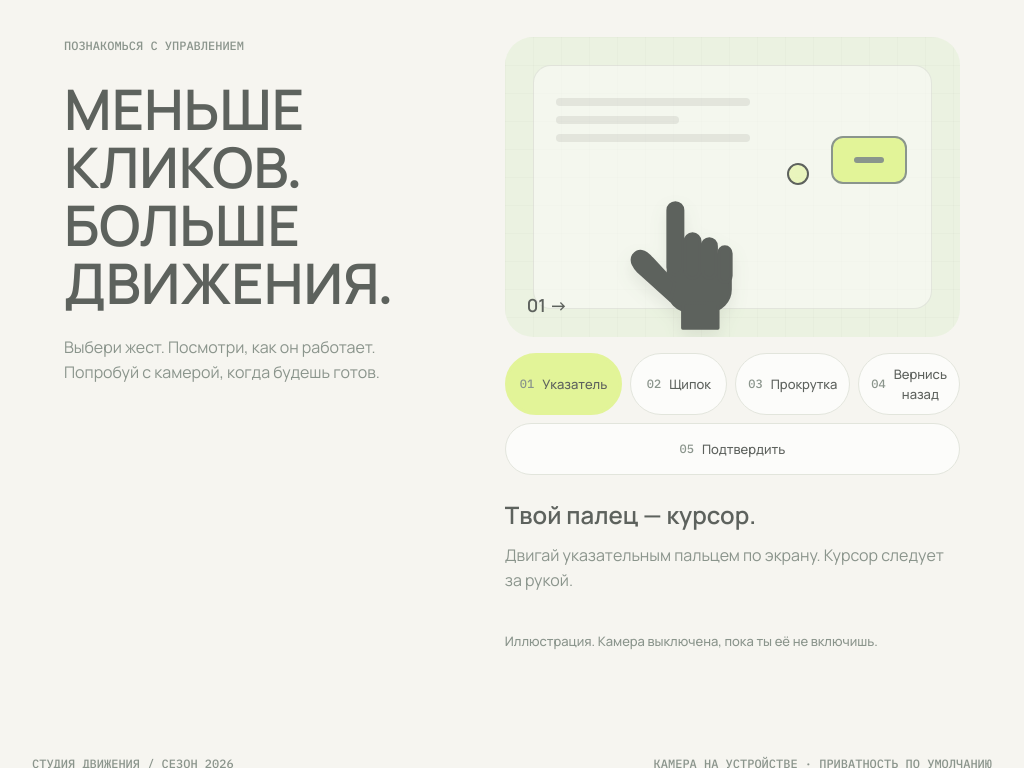
opens the Figma landing page before onboarding and camera preparation
(page scrolled)
Click the button "03 Прокрутка": [793, 384] box [735,353,850,415]
(page scrolled)
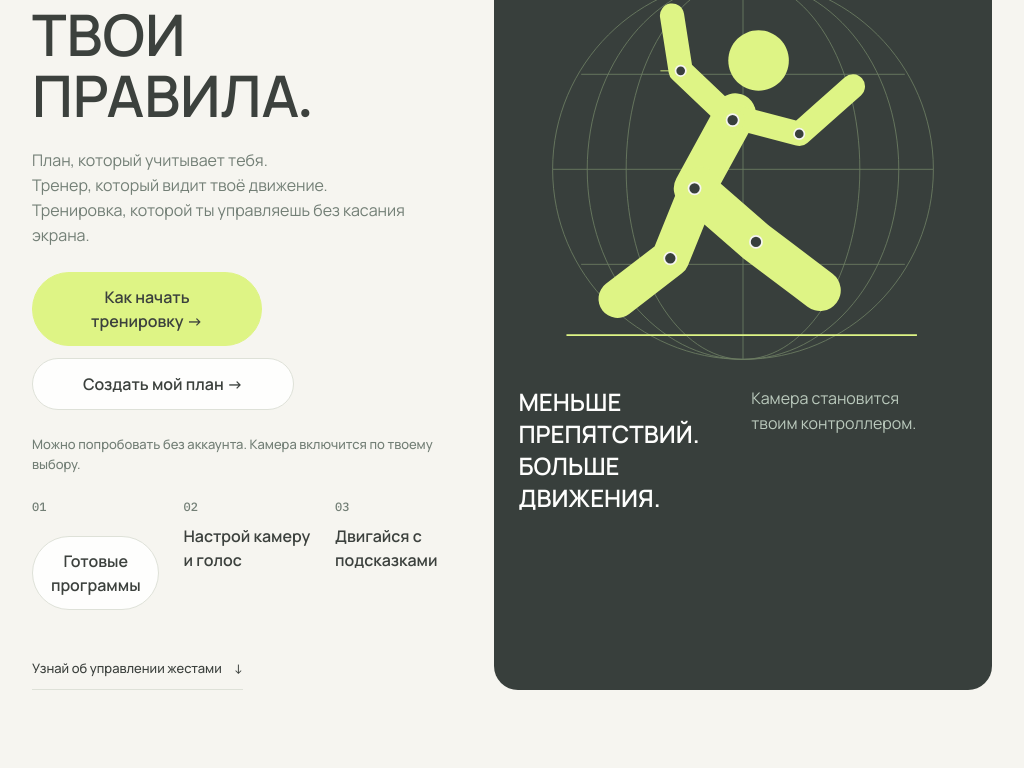
Click the button "Создать мой план →": [163, 384] box [32,358,294,410]
(page scrolled)
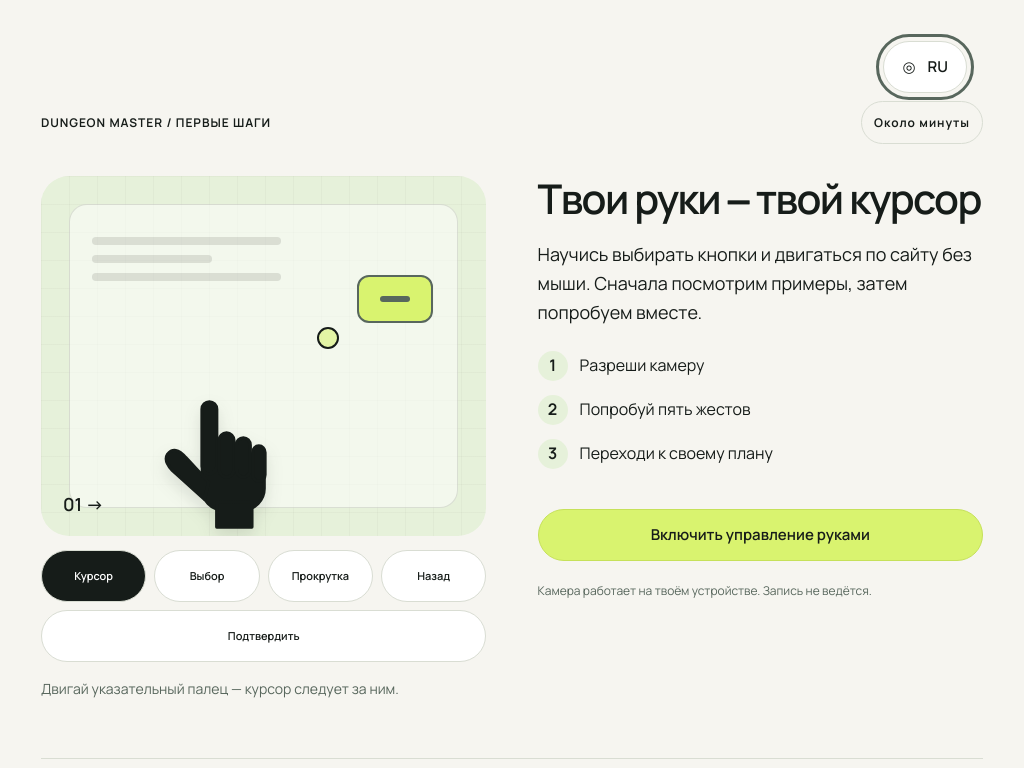
Check: the dialog with class "hands-intro" is shown
